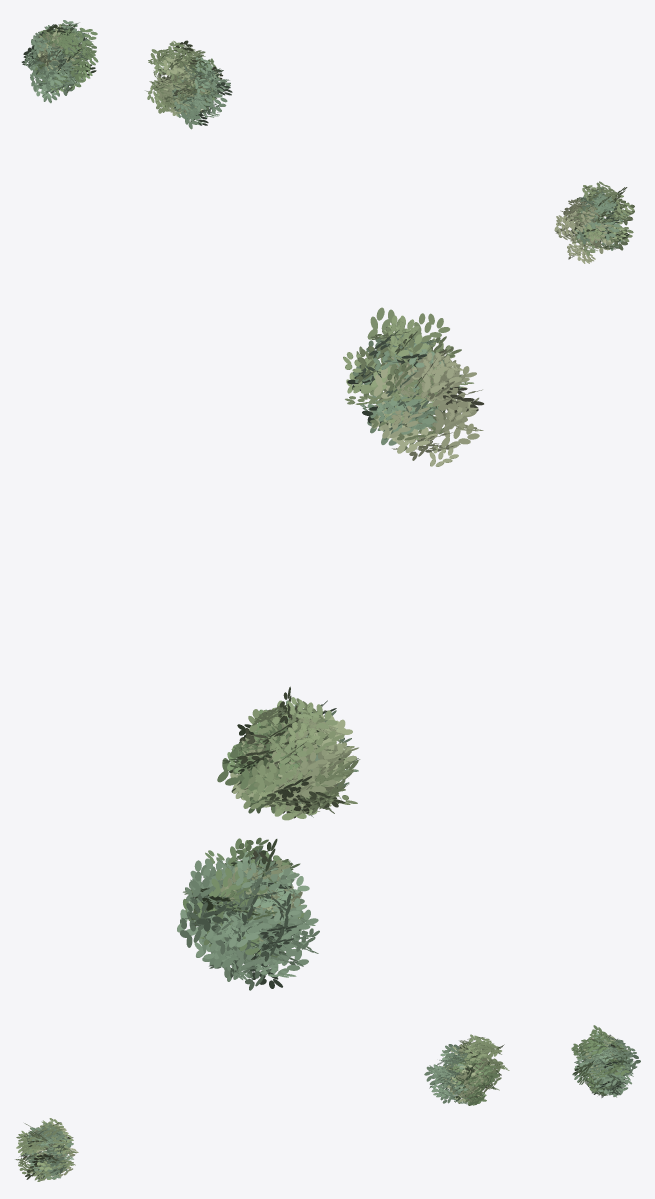
The model's file is campus-tree--7_-8-middle.glb.
The picture shows the model from 3 angles, top to bottom: view 1: azimuth 30°, elevation 25°; view 2: azimuth 150°, elevation 25°; view 3: azimuth 270°, elevation 25°; orthographic projection. The views are drawn at different scales.
Parts seen in each view (by area): view 1: Campus leaf canopy; view 2: Campus leaf canopy; view 3: Campus leaf canopy.
Part boxes in pixels (x1,y1,x2,y2): Campus leaf canopy: (21, 20, 634, 263); Campus leaf canopy: (177, 307, 483, 990); Campus leaf canopy: (15, 1025, 640, 1181).
Bounding box in the file's own units: 22.26 × 7.52 × 45.83.
1 material, 1 textured.
